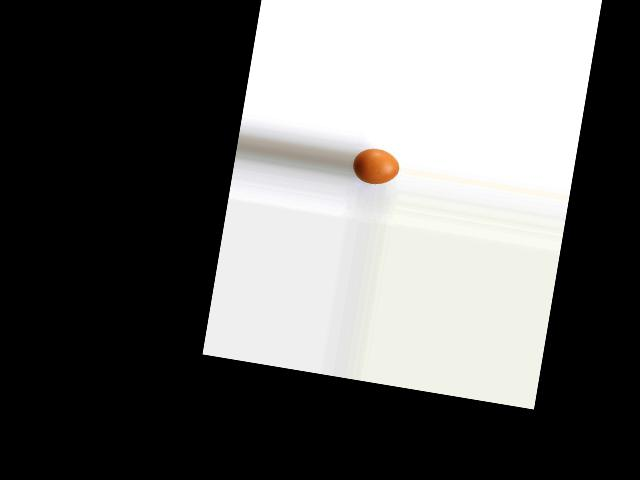egg: (350, 146, 401, 188)
